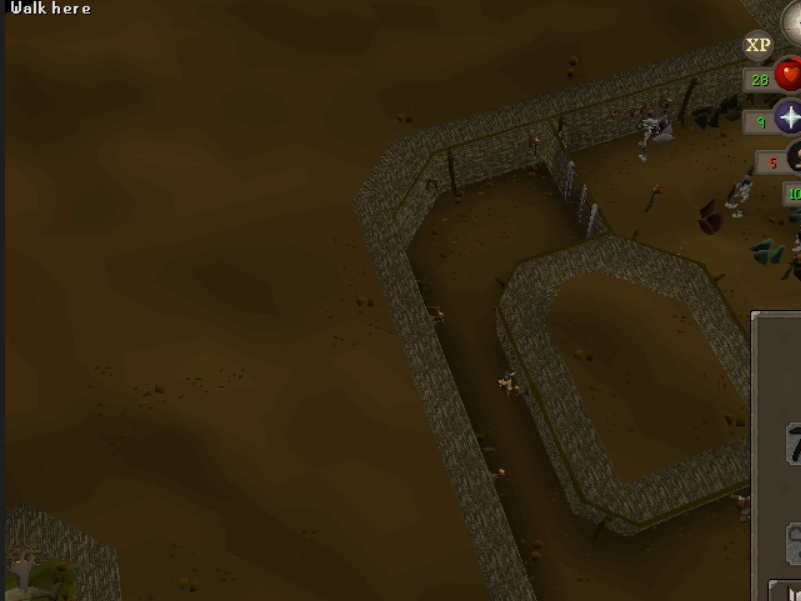adamant: (750, 234, 785, 270)
coal: (691, 101, 724, 130), (722, 92, 755, 121)
iron: (691, 195, 727, 240)
tin: (649, 113, 682, 146)
